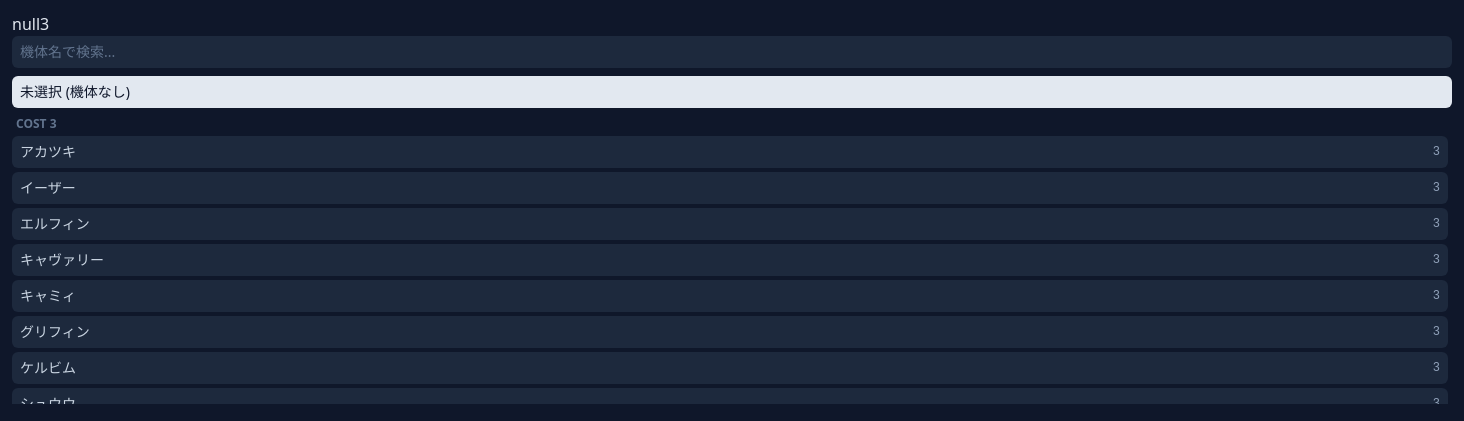
CharacterSelector › query with symbols does not throw and falls back to empty-result UI
Type "@@@###!!!" into the search field named "機体検索".
click(732, 52); type("@@@###!!!")  # box [12,36,1452,68]
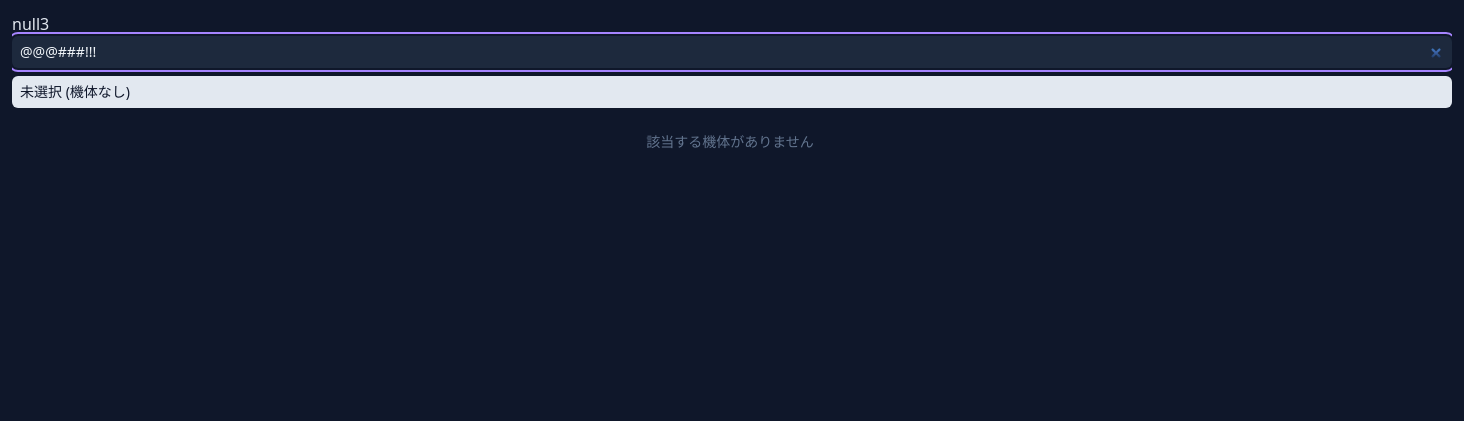
Check: the text "該当する機体がありません" is shown, box [646,132,814,151]
